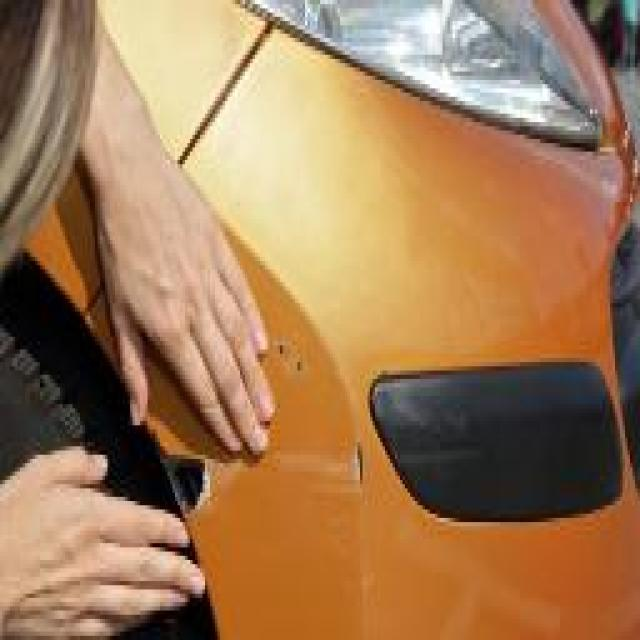Bumper: (140, 387, 432, 619)
